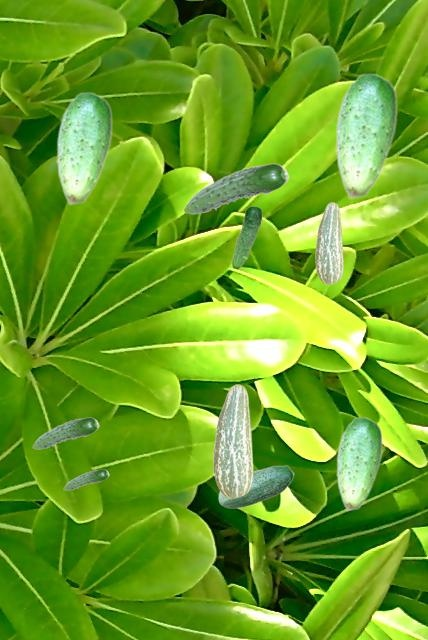cucumber: (335, 72, 396, 198), (56, 91, 111, 204), (183, 163, 288, 213), (213, 384, 252, 497), (336, 416, 381, 510), (218, 465, 293, 507), (315, 202, 342, 283), (32, 417, 98, 448), (231, 206, 261, 268), (63, 469, 108, 489)
